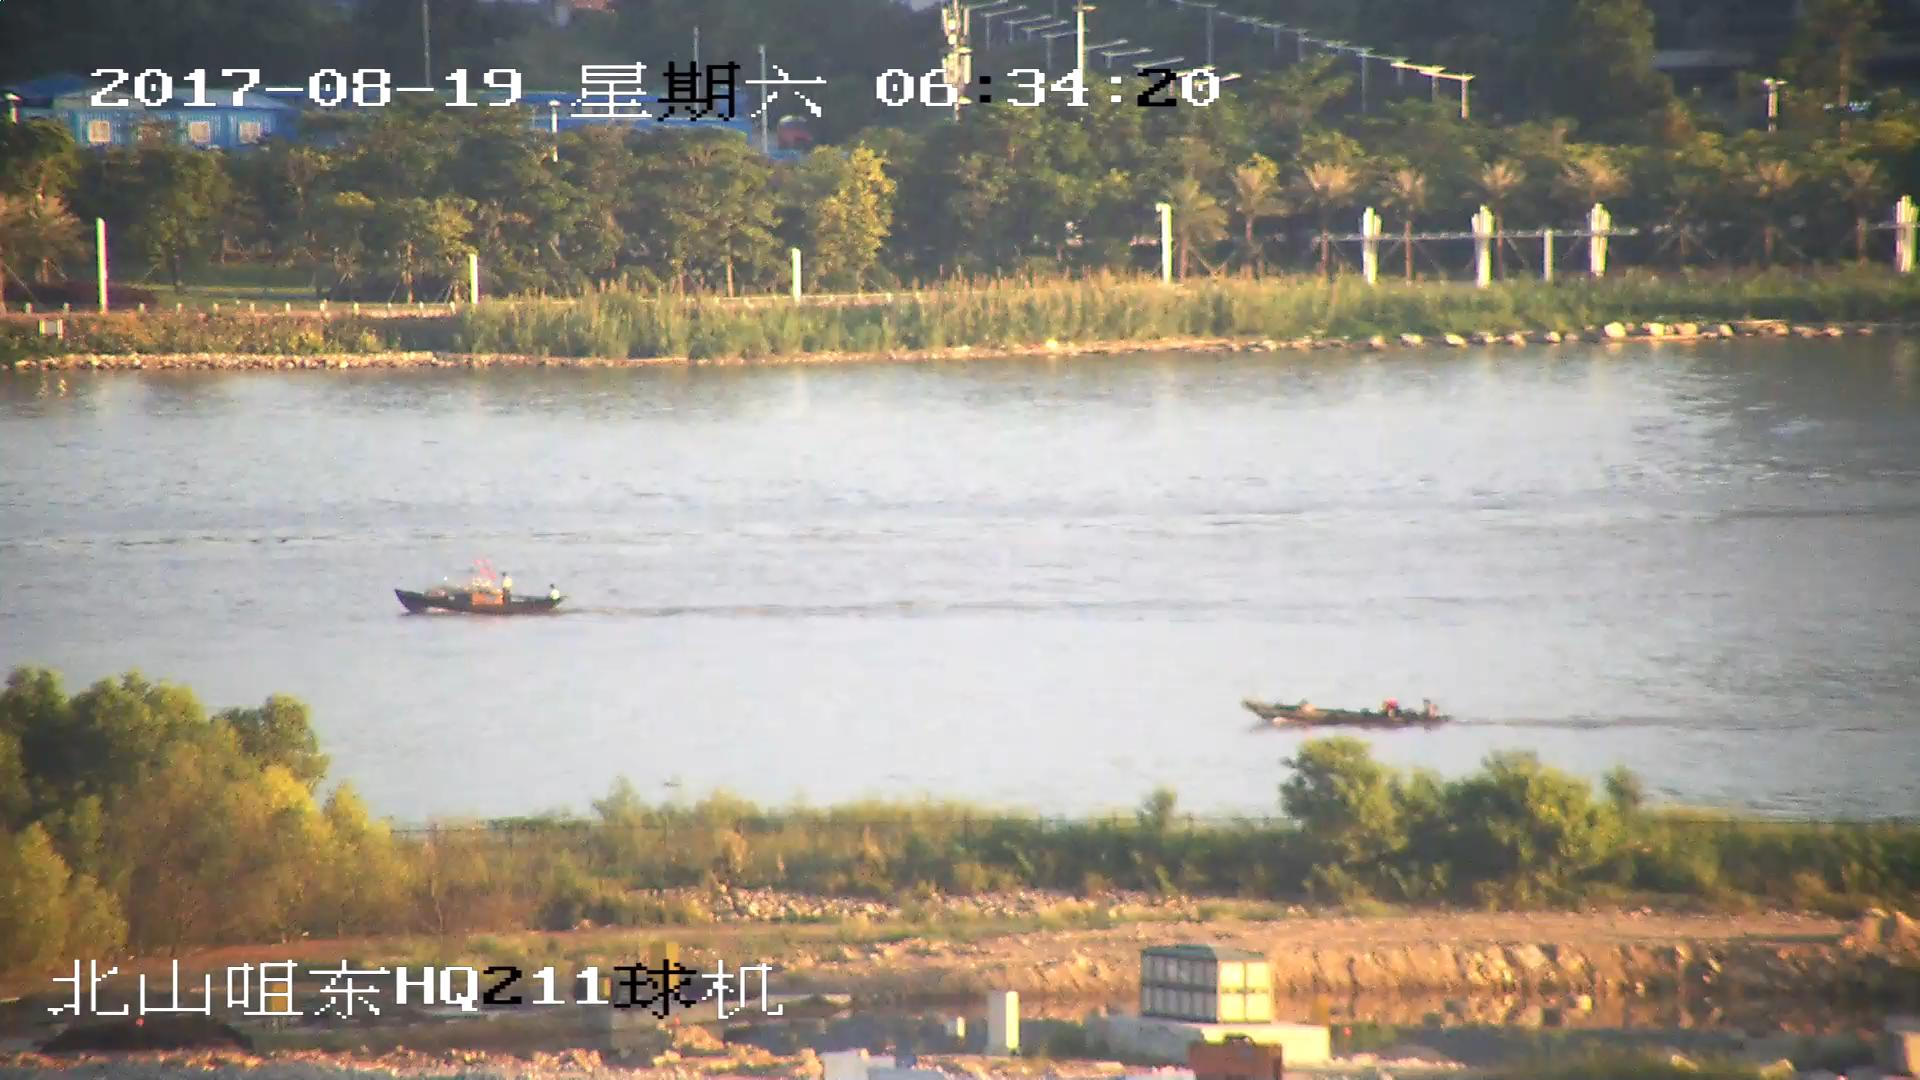fishing boat: (400, 561, 561, 616), (1247, 692, 1451, 732)
